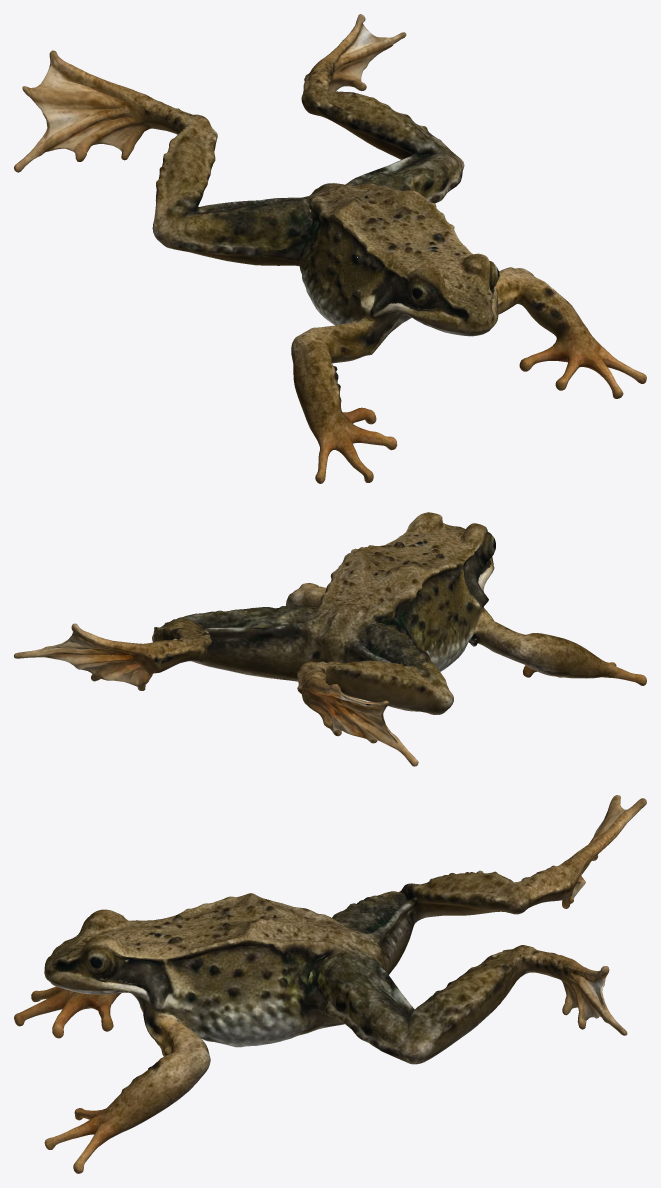
The model's file is commonfrog.swim.glb.
3 views of the same model, one above another, from view 1: azimuth 30°, elevation 25°; view 2: azimuth 150°, elevation 25°; view 3: azimuth 270°, elevation 25° (orthographic). The views are drawn at different scales.
Parts seen in each view (by area): view 1: commonfrog.swim; view 2: commonfrog.swim; view 3: commonfrog.swim.
Part boxes in pixels (x1,y1,x2,y2): commonfrog.swim: (14, 14, 646, 483); commonfrog.swim: (14, 512, 646, 766); commonfrog.swim: (14, 795, 646, 1173).
Size of the model in its own units: 0.1002 by 0.0503 by 0.131.
1 material, 1 textured.
